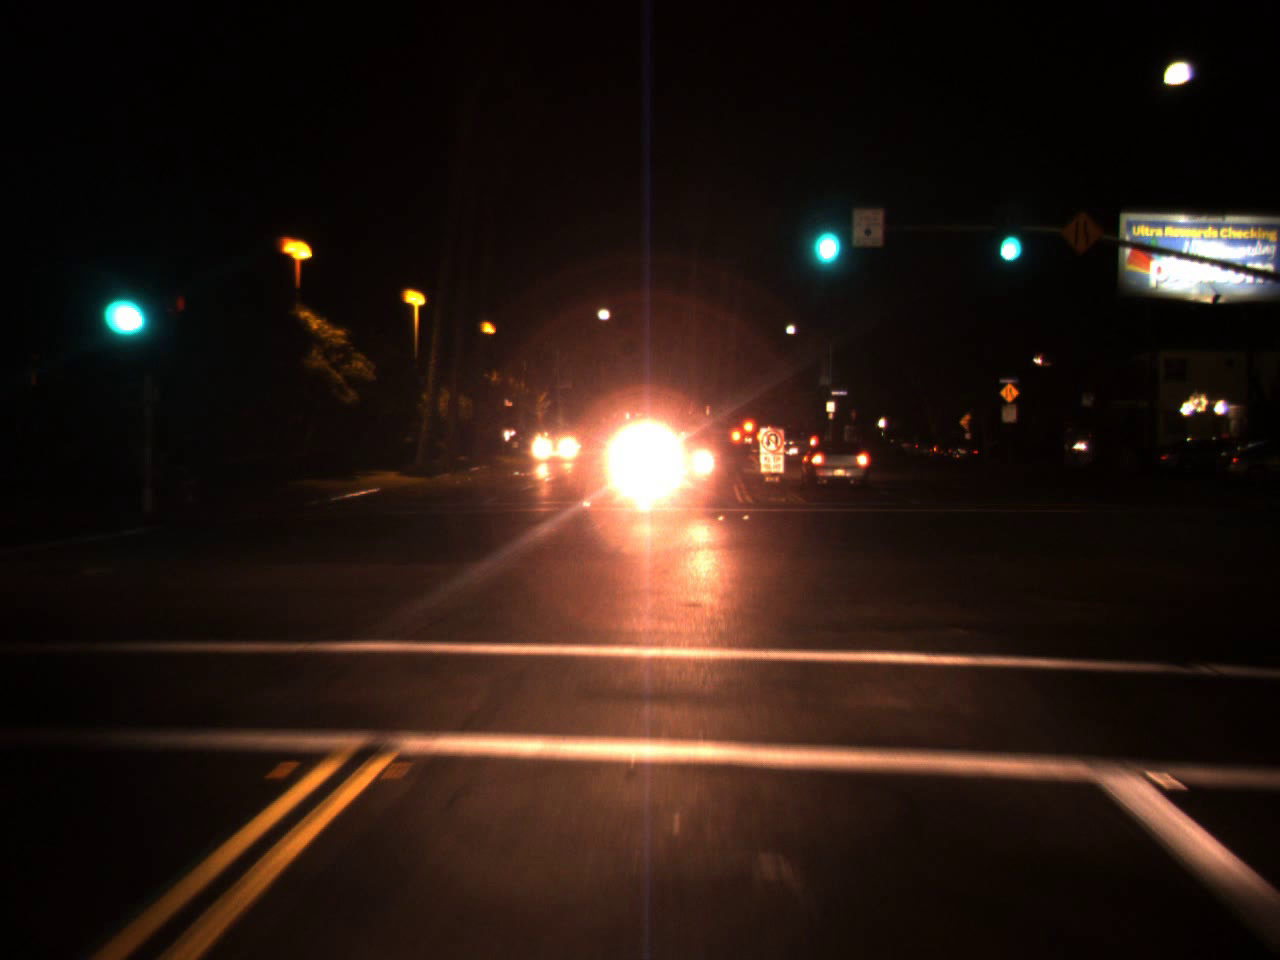go: (802, 192, 847, 276), (102, 270, 148, 342), (996, 205, 1024, 271)
